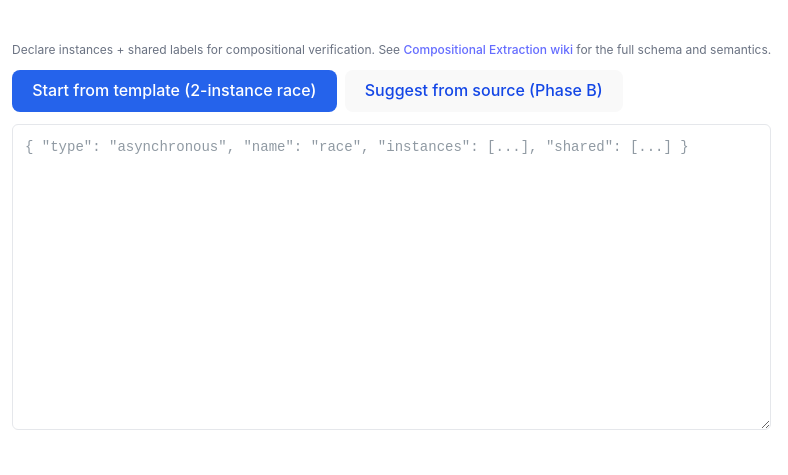
Test case: CompositionEditor › surfaces an error message when the propose endpoint fails
The image size is (788, 475).
Click the button with aria-label "Suggest composition from source".
click(484, 91)  # box [345, 70, 623, 112]
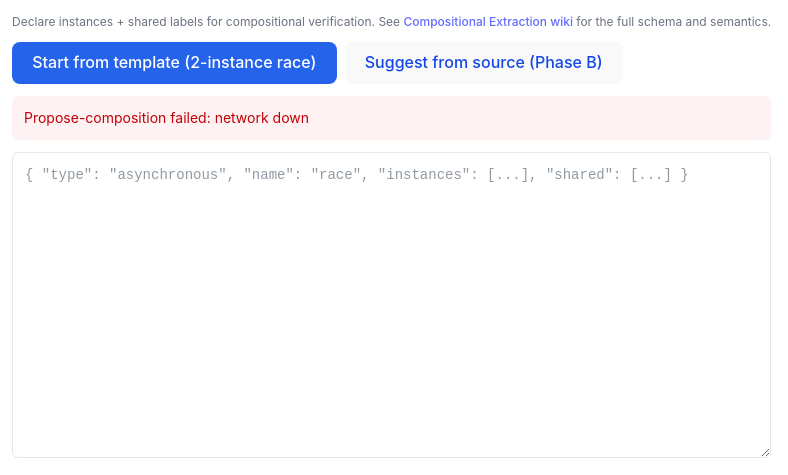
Check: the text "Propose-composition failed: network down" is shown, box [12, 96, 771, 140]
